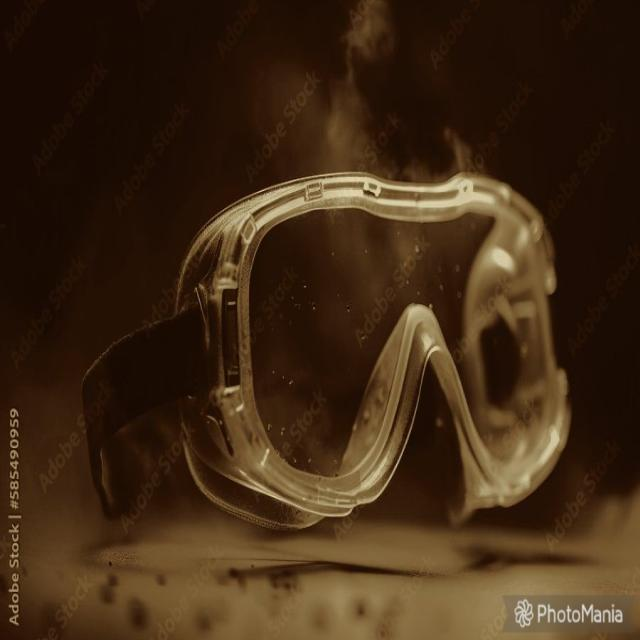Goggles: (71, 164, 588, 551)
